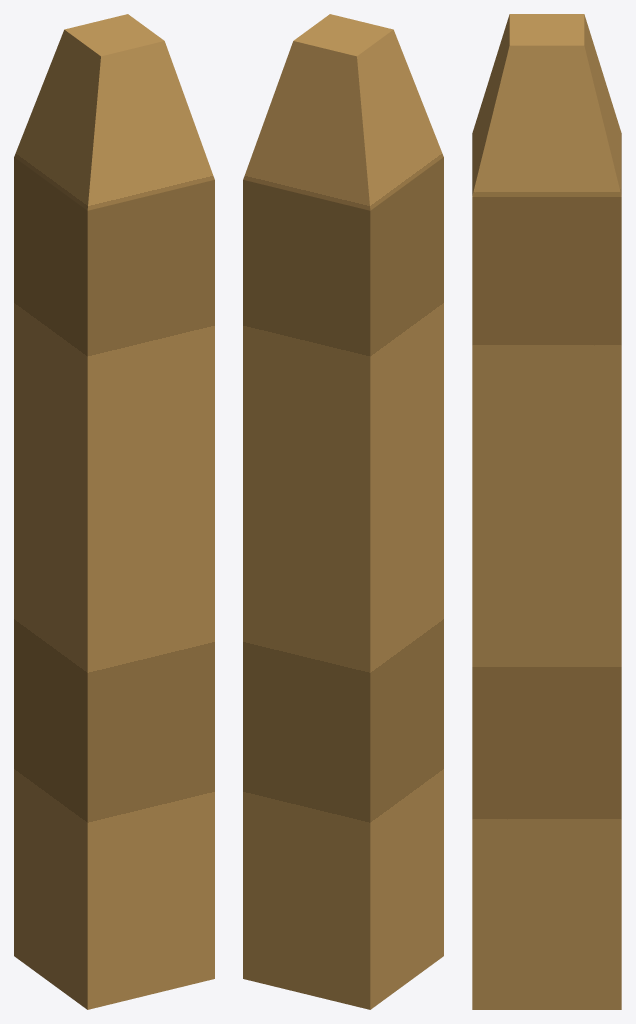
Rendered from FencePost.gltf.
3 views of the same model, side by side, from view 1: azimuth 30°, elevation 25°; view 2: azimuth 150°, elevation 25°; view 3: azimuth 270°, elevation 25° (orthographic).
Visible parts, largest first — view 1: cuboid; view 2: cuboid; view 3: cuboid.
Boxes of the visible parts, x1,y1,x2,y2 form: cuboid: [14, 14, 214, 1009]; cuboid: [243, 14, 443, 1009]; cuboid: [472, 14, 621, 1009].
Size of the model in its own units: 0.25 by 1.75 by 0.25.
1 material, 1 textured.
